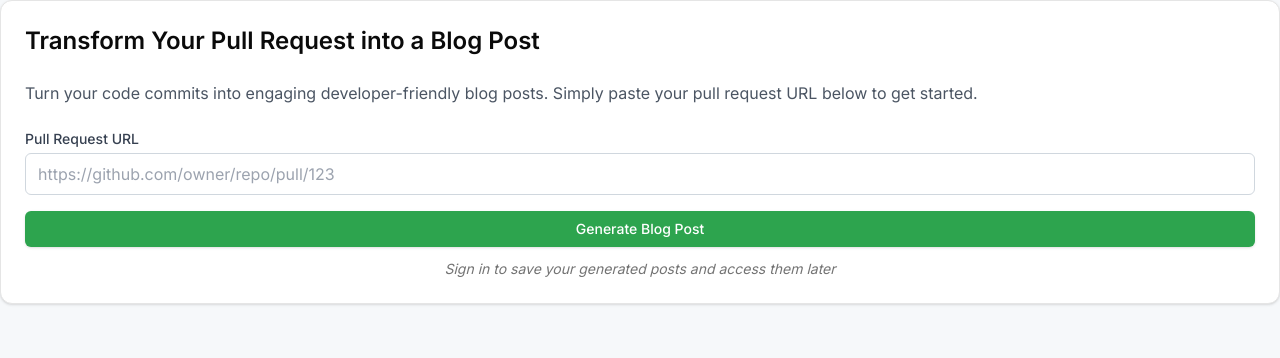
Test case: Home Component › handles errors during form submission
Type "https://github.com/user/repo/pull/123" into the field labelled "Pull Request URL" at (640, 174), box x1=25 y1=153 x2=1255 y2=195
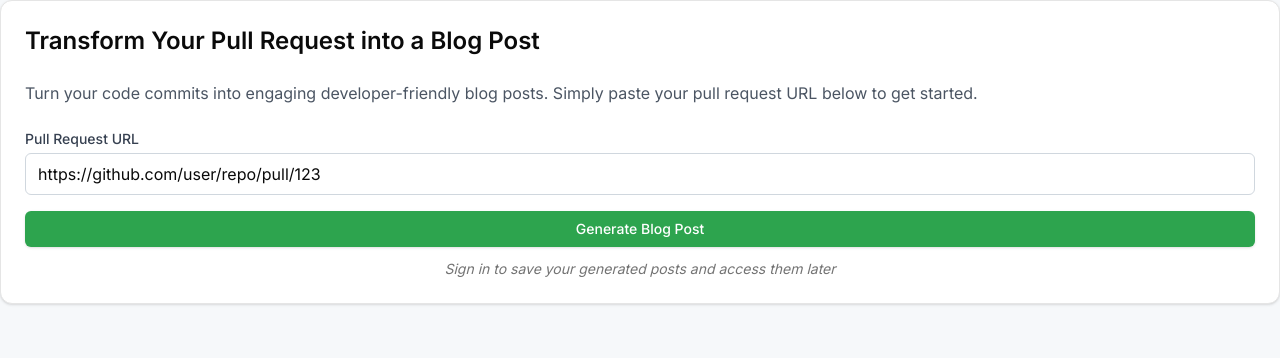
Click the button "Generate Blog Post" at (640, 229), box x1=25 y1=211 x2=1255 y2=247
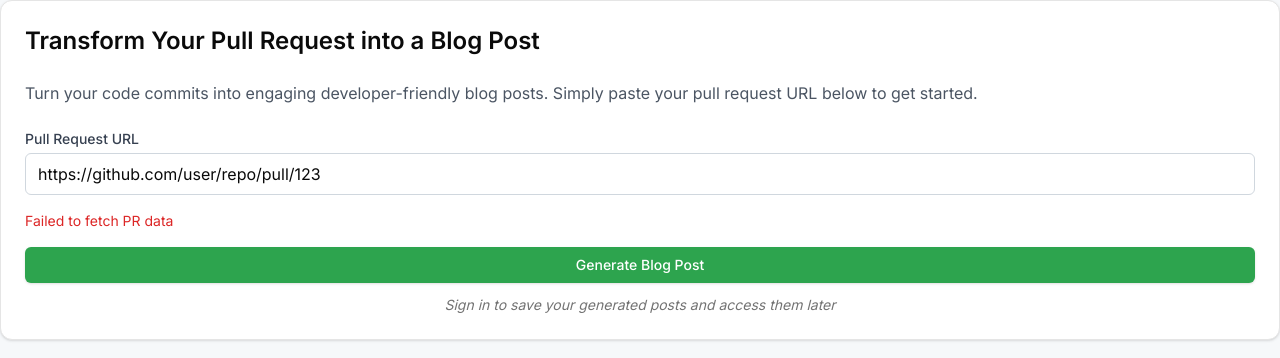
Now the text "Failed to fetch PR data" is shown, box x1=25 y1=212 x2=173 y2=229
